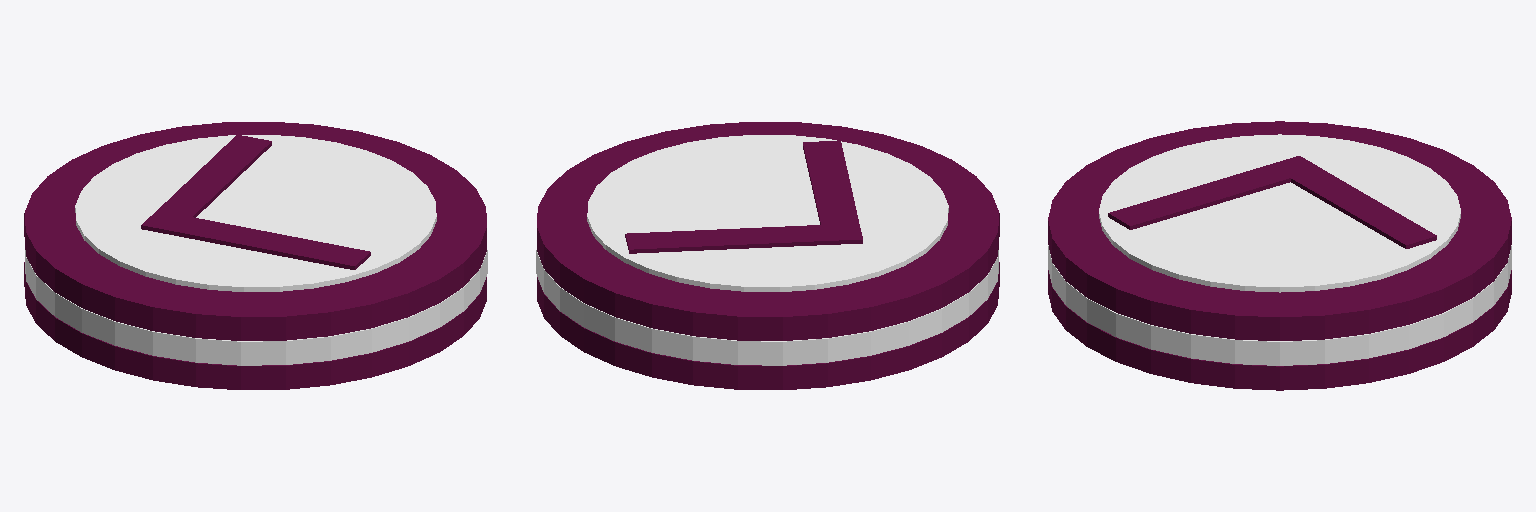
The model's file is programa.obj.
3 views of the same model, side by side, from view 1: azimuth 30°, elevation 25°; view 2: azimuth 150°, elevation 25°; view 3: azimuth 270°, elevation 25° (orthographic).
Parts seen in each view (by area): view 1: Circle.001_Circle.003; view 2: Circle.001_Circle.003; view 3: Circle.001_Circle.003.
Part boxes in pixels (x1,y1,x2,y2): Circle.001_Circle.003: (24,122,487,389); Circle.001_Circle.003: (536,122,999,389); Circle.001_Circle.003: (1048,121,1511,390).
Size of the model in its own units: 2 by 0.4689 by 2.